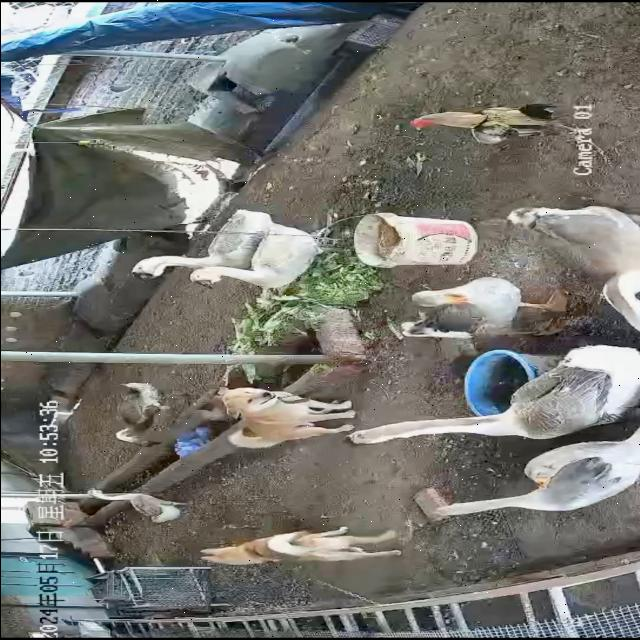dog: (217, 388, 357, 450), (198, 527, 402, 567)
